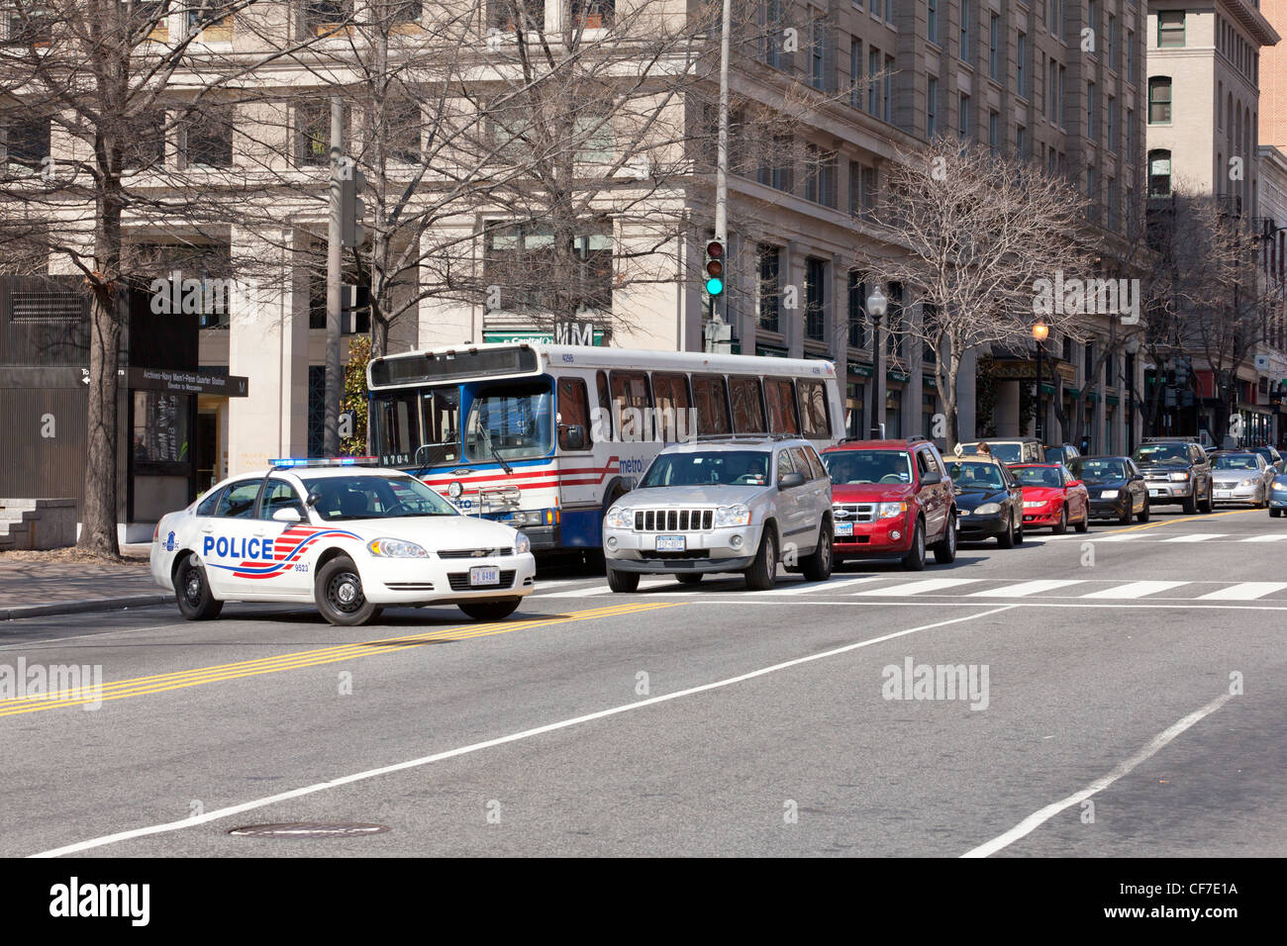Car: (148, 447, 539, 618), (601, 426, 836, 584), (814, 428, 962, 567), (942, 446, 1029, 550), (1003, 446, 1087, 524)
Crosswalk: (828, 550, 1287, 642)
Tree: (6, 1, 134, 549)
